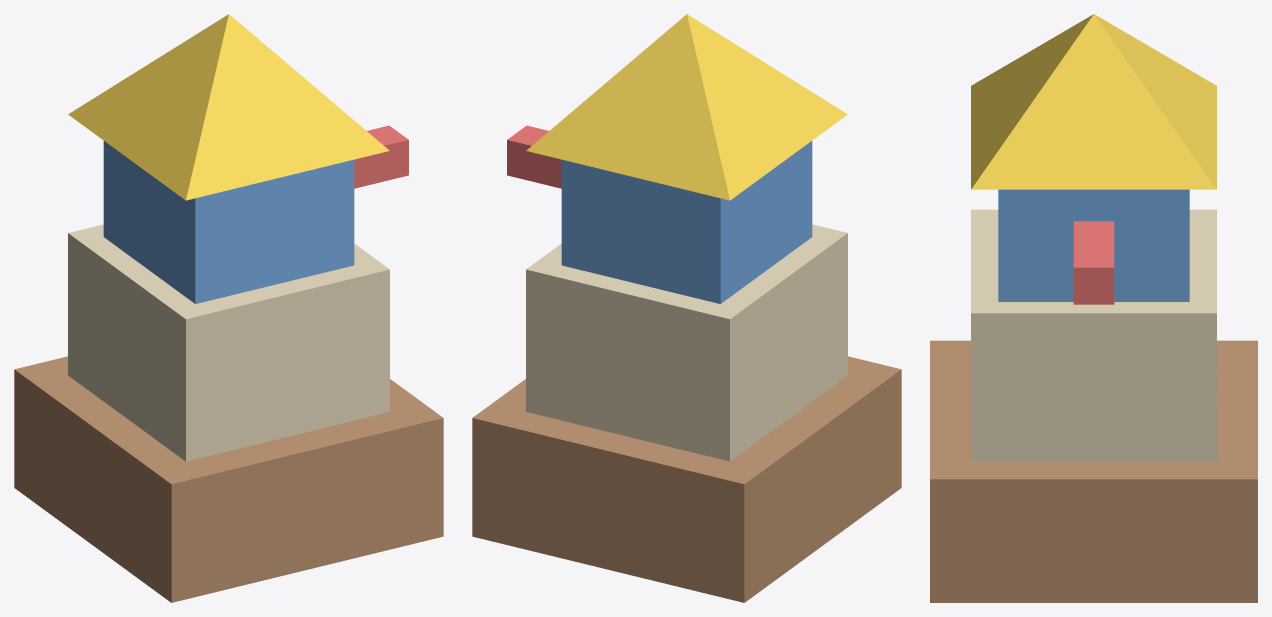
File: totem.glb
The picture shows the model from 3 angles, left to right: view 1: azimuth 30°, elevation 25°; view 2: azimuth 150°, elevation 25°; view 3: azimuth 270°, elevation 25°; orthographic projection. The views are drawn at different scales.
Visible parts, largest first — view 1: part0, part1, part4, part2, part3; view 2: part0, part1, part4, part2, part3; view 3: part0, part1, part4, part2, part3.
Boxes of the visible parts, <box> form: part0: <box>14,356,443,602</box>; part1: <box>68,224,389,461</box>; part4: <box>68,14,389,200</box>; part2: <box>103,141,354,303</box>; part3: <box>354,125,408,188</box>; part0: <box>472,356,901,602</box>; part1: <box>526,224,847,461</box>; part4: <box>526,14,847,200</box>; part2: <box>561,141,812,303</box>; part3: <box>507,125,561,188</box>; part0: <box>930,340,1257,602</box>; part1: <box>971,209,1216,461</box>; part4: <box>971,14,1216,189</box>; part2: <box>998,189,1189,301</box>; part3: <box>1073,221,1114,304</box>.
Bounding box in the file's own units: 1.35 × 2.1 × 1.2.
